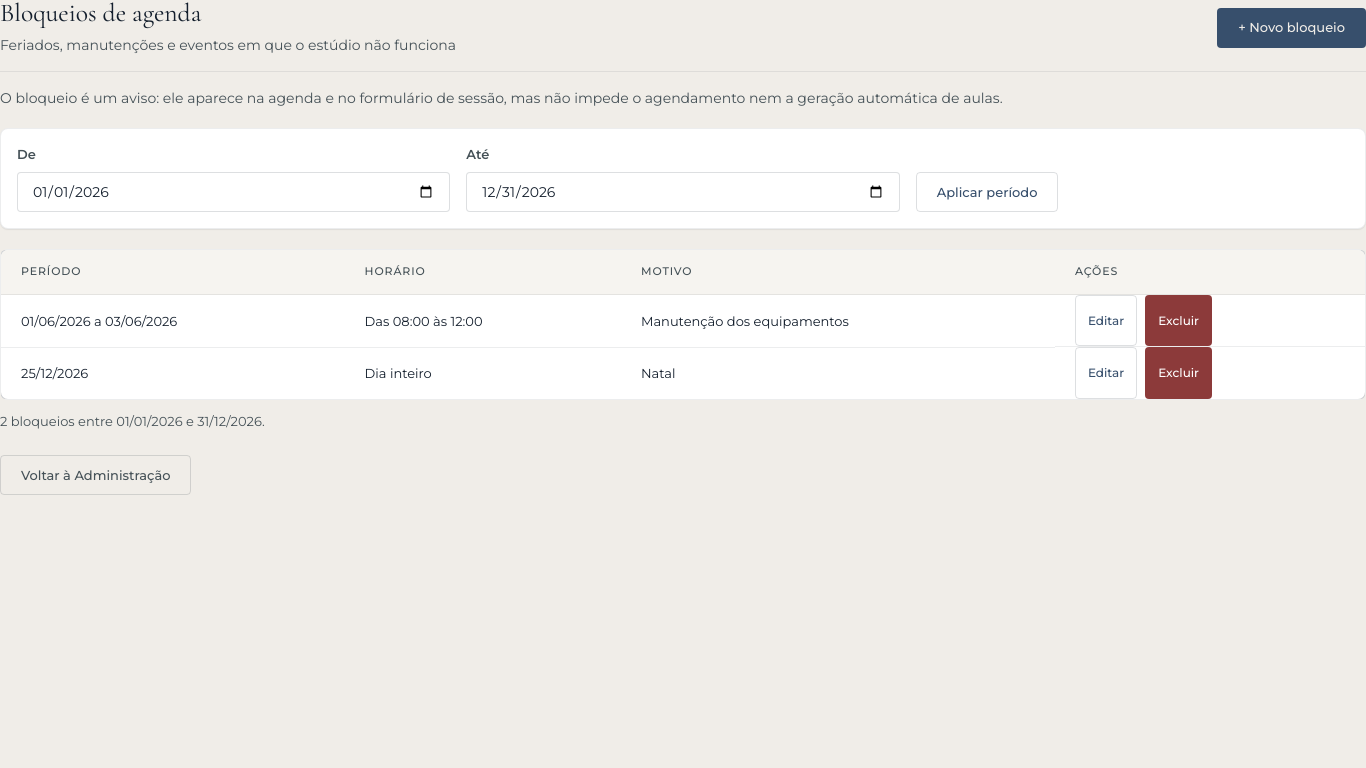
Scenario: BloqueioListComponent › exclusão › should show the API message when deleting fails
The image size is (1366, 768).
Click the button with class "btn-danger" in the row of "01/06/2026 a 03/06/2026": (1179, 321) [1145,295,1212,346]
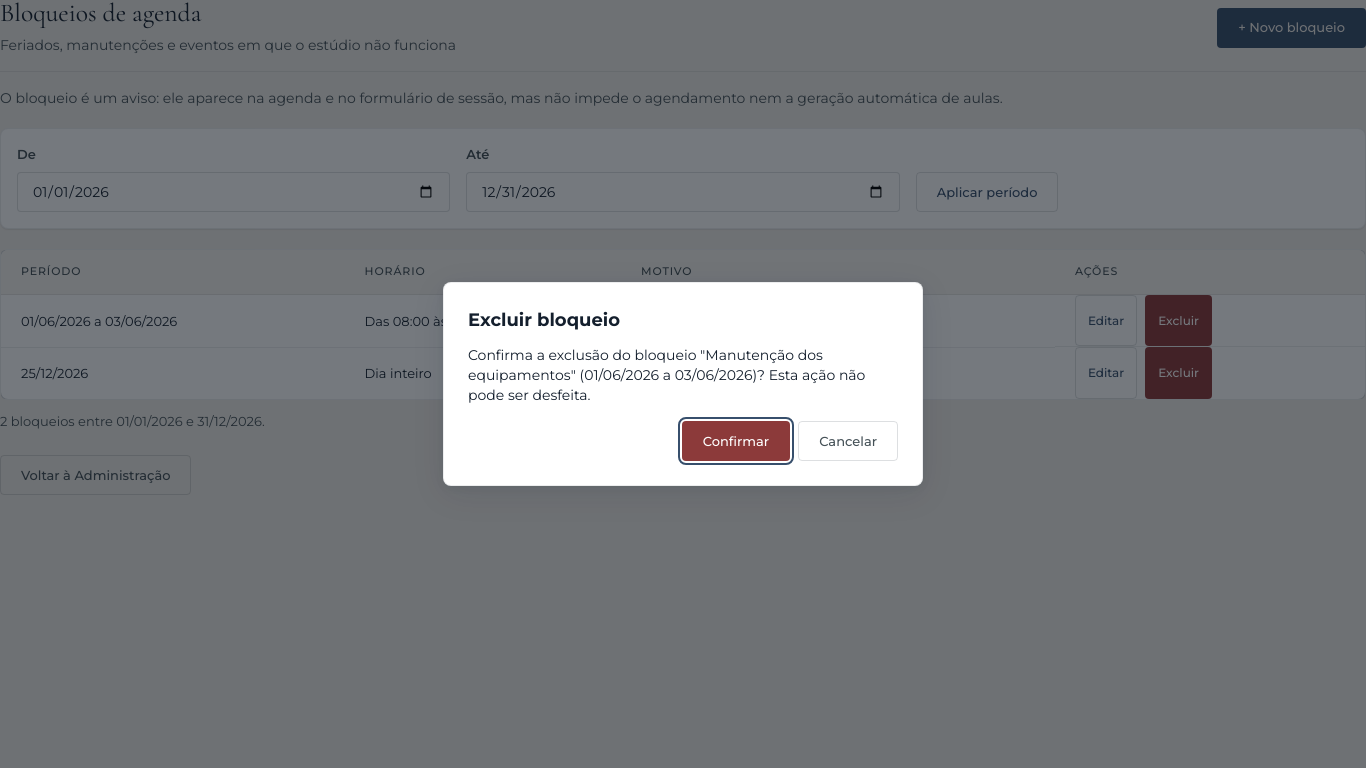
Click the button with class "btn-danger" showing "Confirmar": (736, 442) [682,422,790,462]
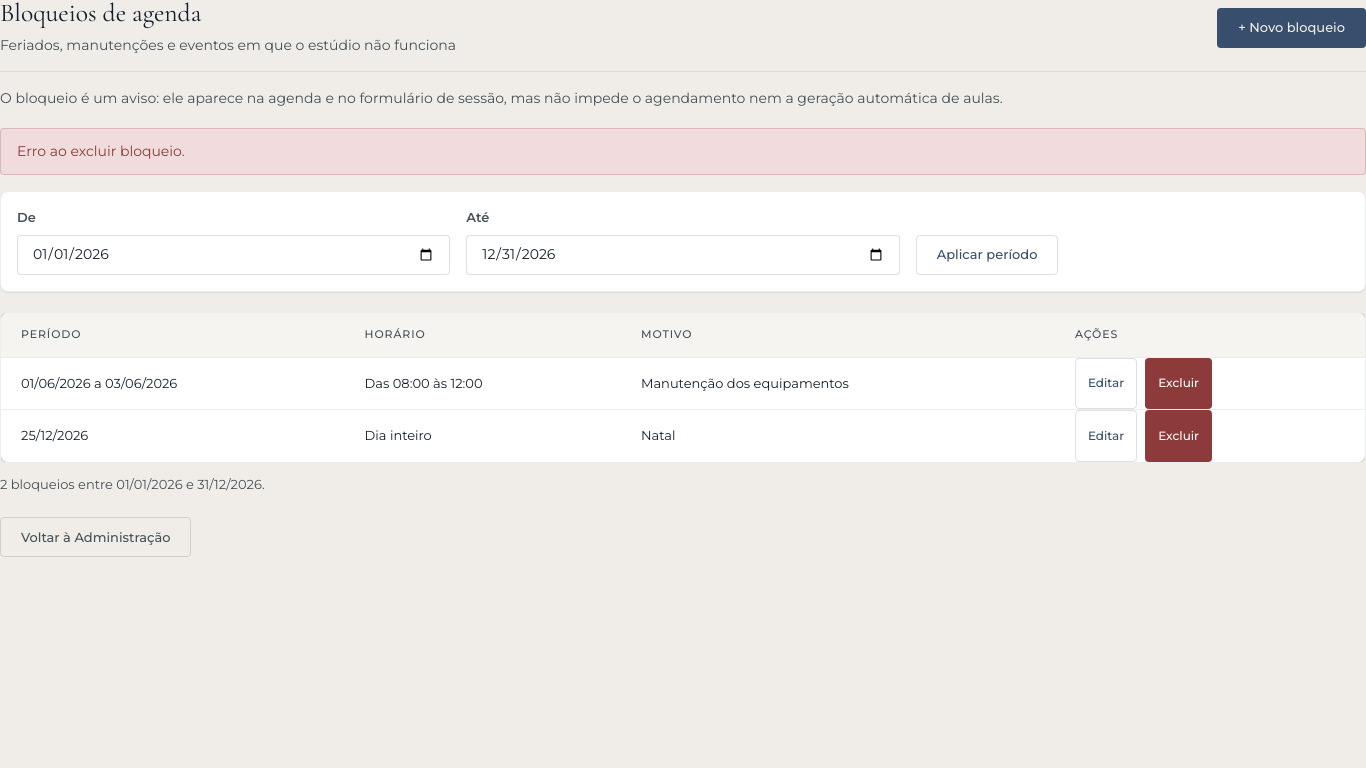
Expected: the message with class "alert-danger" reads "Erro ao excluir bloqueio.", [17,142,185,160]
